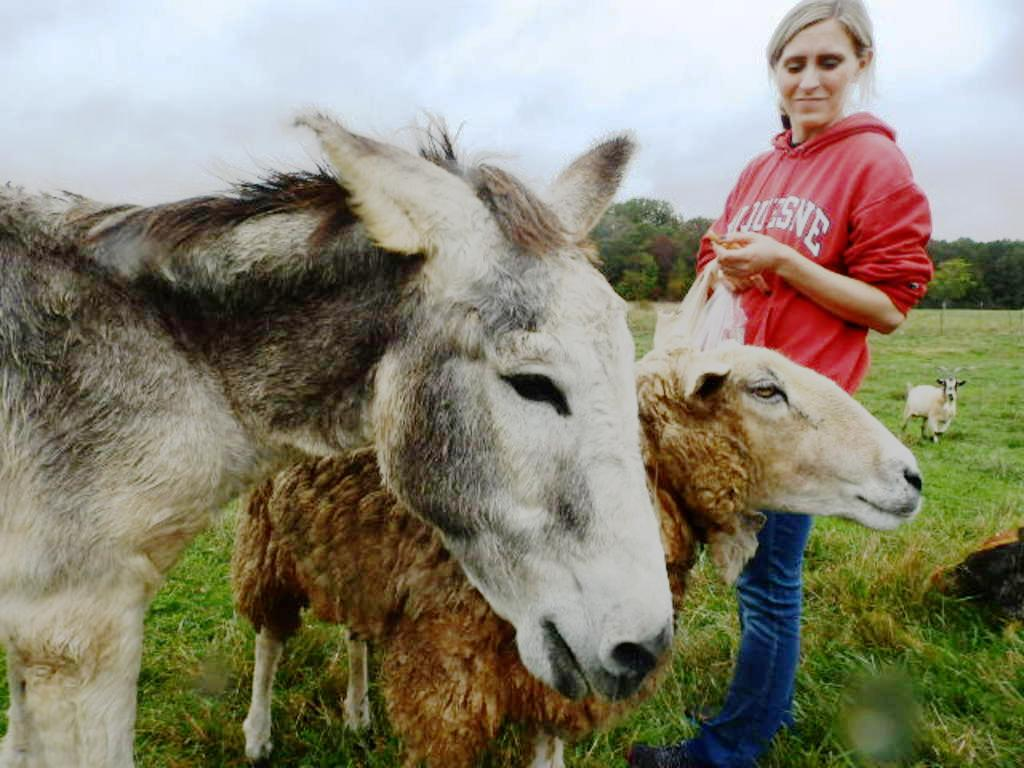Sheep: (230, 332, 924, 766), (906, 378, 964, 448)
